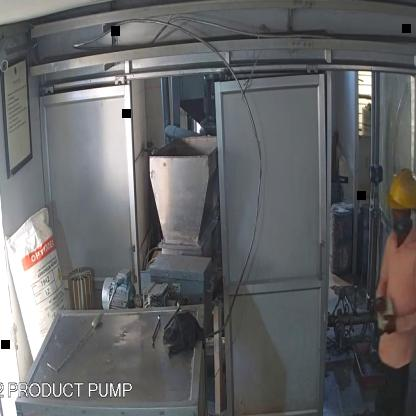helmet: (376, 156, 416, 219)
